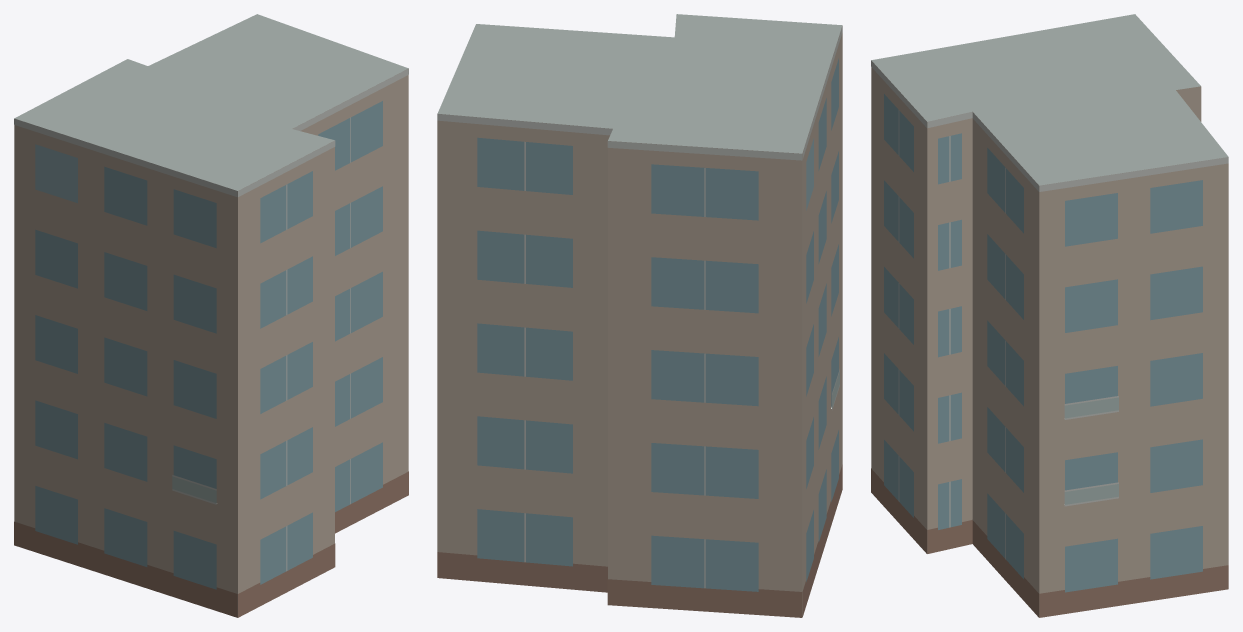
The model's file is survey-upis-32853956.glb.
3 views of the same model, side by side, from view 1: azimuth 30°, elevation 25°; view 2: azimuth 150°, elevation 25°; view 3: azimuth 270°, elevation 25° (orthographic). The views are drawn at different scales.
Parts seen in each view (by area): view 1: survey-upis-32853956.tmp; view 2: survey-upis-32853956.tmp; view 3: survey-upis-32853956.tmp.
Boxes of the visible parts, <box> form: survey-upis-32853956.tmp: <box>14,14,408,617</box>; survey-upis-32853956.tmp: <box>437,14,842,617</box>; survey-upis-32853956.tmp: <box>871,14,1228,617</box>.
Size of the model in its own units: 13.98 by 16.4 by 12.31.
